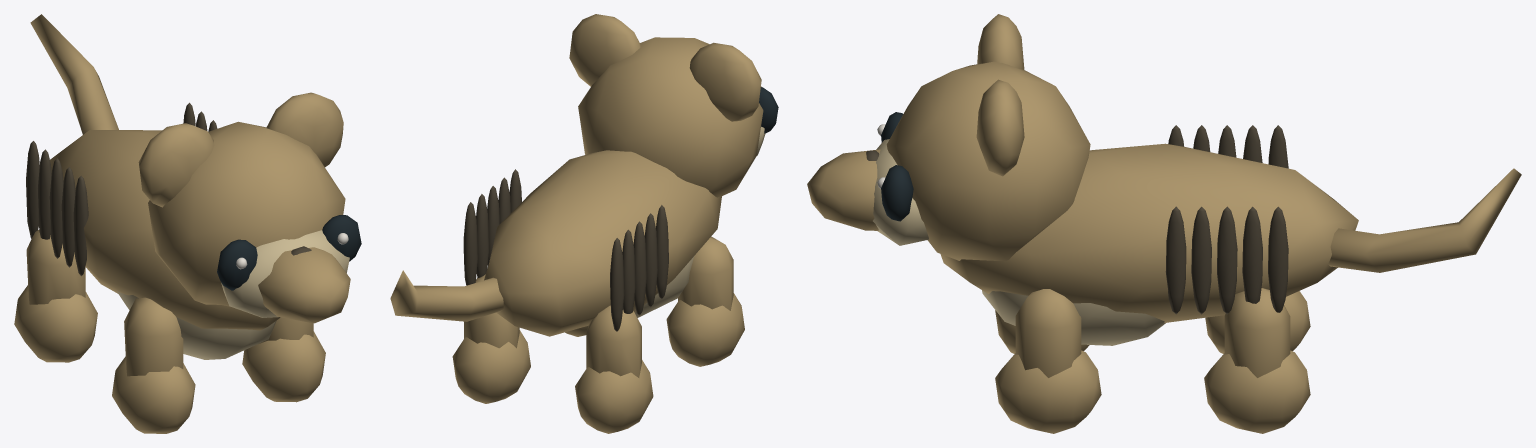
Rendered from org_thylacine.glb.
The picture shows the model from 3 angles, left to right: view 1: azimuth 30°, elevation 25°; view 2: azimuth 150°, elevation 25°; view 3: azimuth 270°, elevation 25°; orthographic projection. The views are drawn at different scales.
Parts seen in each view (by area): view 1: Head, Body, Leg_FR, Leg_BR, Leg_FL, Tail, Eye_R, Eye_L; view 2: Body, Head, Leg_BR, Leg_FR, Leg_BL, Tail, Eye_R; view 3: Body, Head, Leg_FL, Leg_BL, Tail, Leg_BR, Eye_L.
Part boxes in pixels (box(x1,y1,x2,y2)): Head: box(138, 92, 350, 323); Body: box(26, 102, 280, 359); Leg_FR: box(112, 297, 195, 433); Leg_BR: box(14, 230, 97, 362); Leg_FL: box(242, 317, 325, 402); Tail: box(30, 14, 118, 134); Eye_R: box(217, 239, 257, 290); Eye_L: box(322, 215, 361, 261); Body: box(463, 150, 721, 336); Head: box(569, 14, 765, 197); Leg_BR: box(575, 305, 653, 433); Leg_FR: box(666, 236, 744, 366); Leg_BL: box(452, 274, 530, 403); Tail: box(390, 270, 503, 321); Eye_R: box(759, 87, 778, 133); Body: box(940, 125, 1358, 345); Head: box(807, 14, 1090, 260); Leg_FL: box(995, 289, 1101, 433); Leg_BL: box(1204, 288, 1310, 433); Tail: box(1328, 168, 1521, 272); Leg_BR: box(1205, 291, 1310, 353); Eye_L: box(877, 165, 913, 221).
Bounding box in the file's own units: 0.3508 × 0.5302 × 0.9976.
